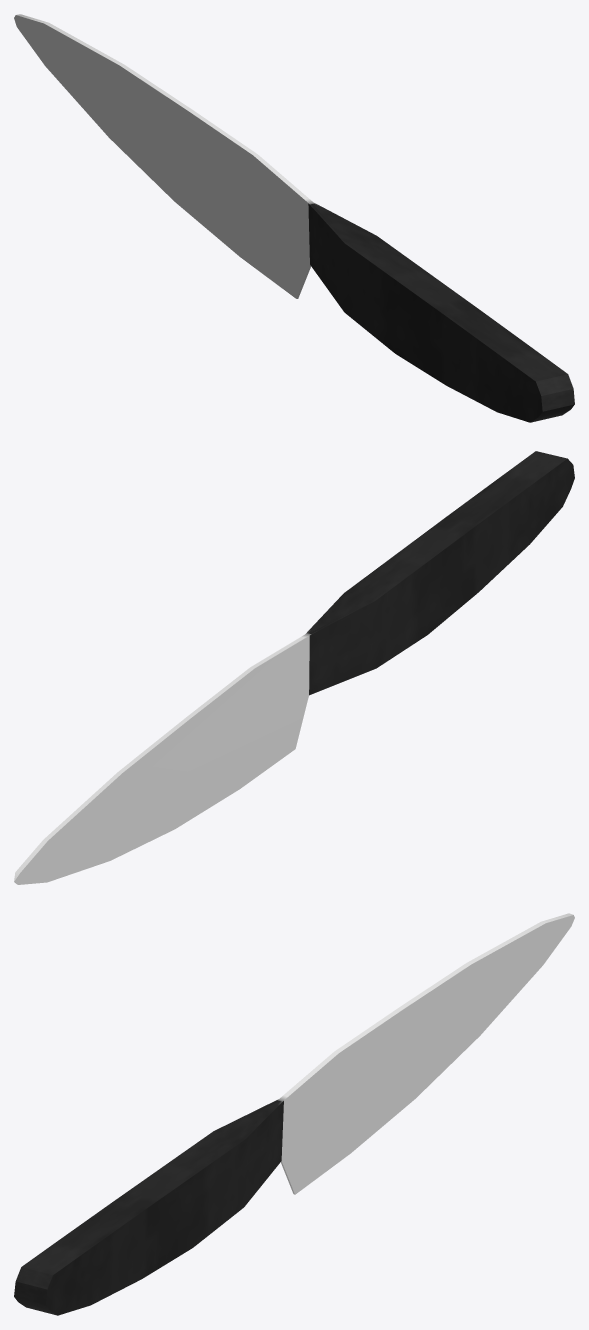
File: Knief.fbx
3 views of the same model, one above another, from view 1: azimuth 30°, elevation 25°; view 2: azimuth 150°, elevation 25°; view 3: azimuth 330°, elevation 25° (orthographic).
Visible parts, largest first — view 1: knife 1.002; view 2: knife 1.002; view 3: knife 1.002.
Part boxes in pixels (<box>): knife 1.002: <box>14,14,574,422</box>; knife 1.002: <box>14,451,574,884</box>; knife 1.002: <box>14,913,574,1315</box>.
Size of the model in its own units: 0.00688 by 0.0217 by 0.1901.
